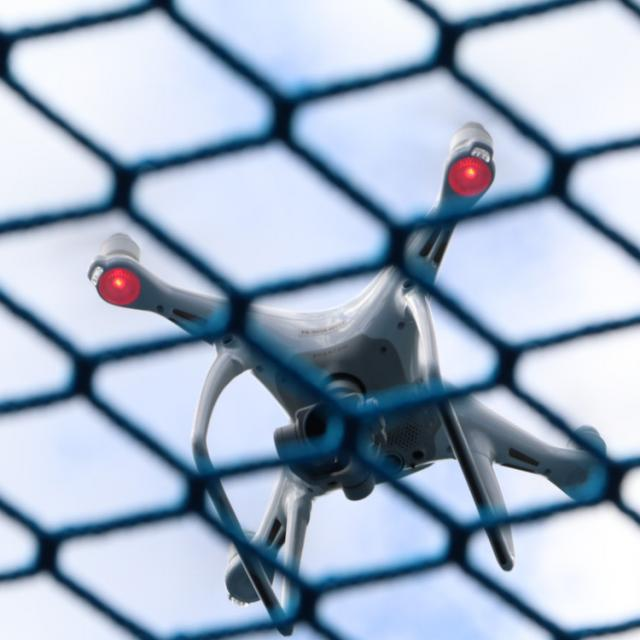drone: (57, 97, 640, 606)
